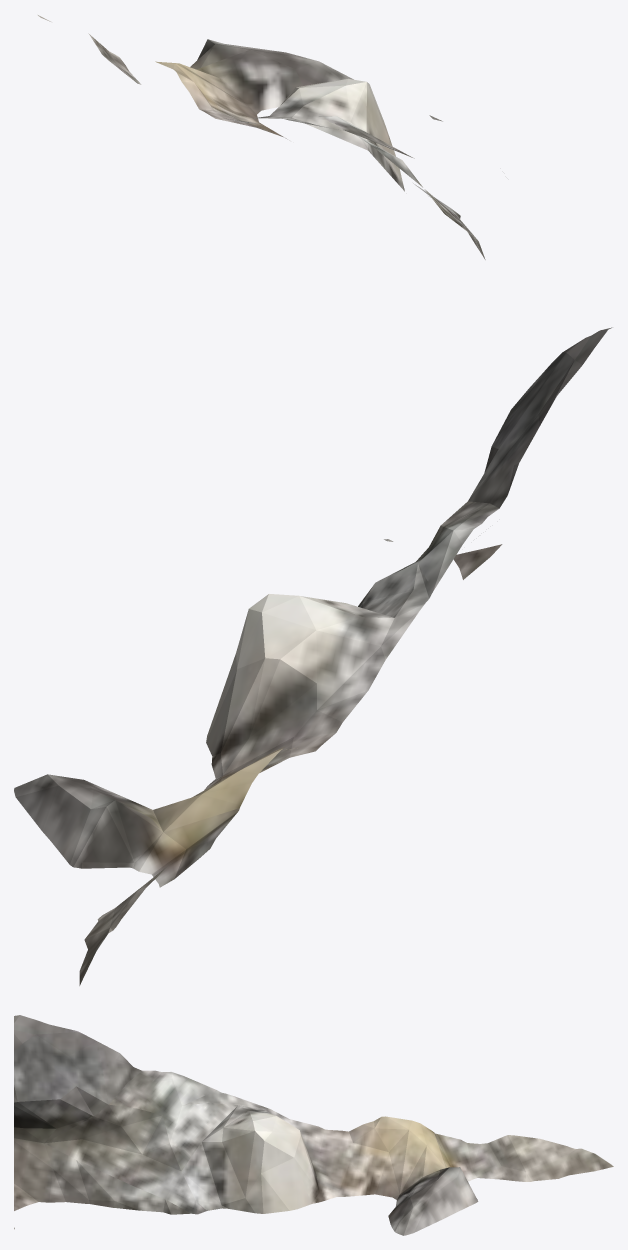
The picture shows the model from 3 angles, top to bottom: view 1: azimuth 30°, elevation 25°; view 2: azimuth 150°, elevation 25°; view 3: azimuth 270°, elevation 25°; orthographic projection. The views are drawn at different scales.
Bounding box in the file's own units: 0.6282 × 0.6419 × 2.3.
Materials: 1 (1 with a texture image).
